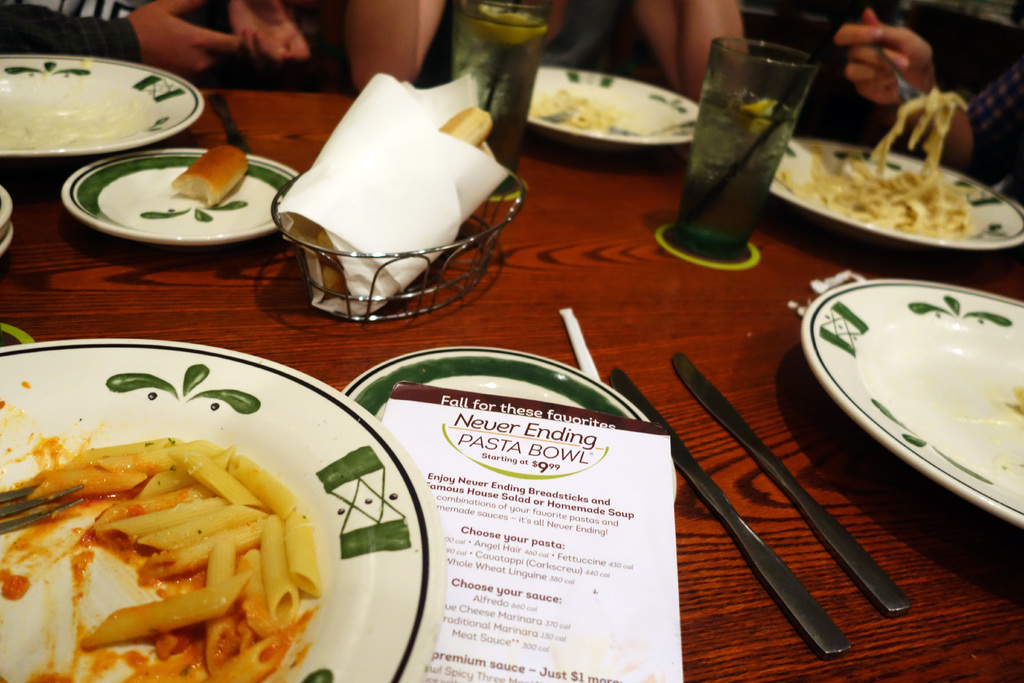plate: (802, 260, 1017, 503)
